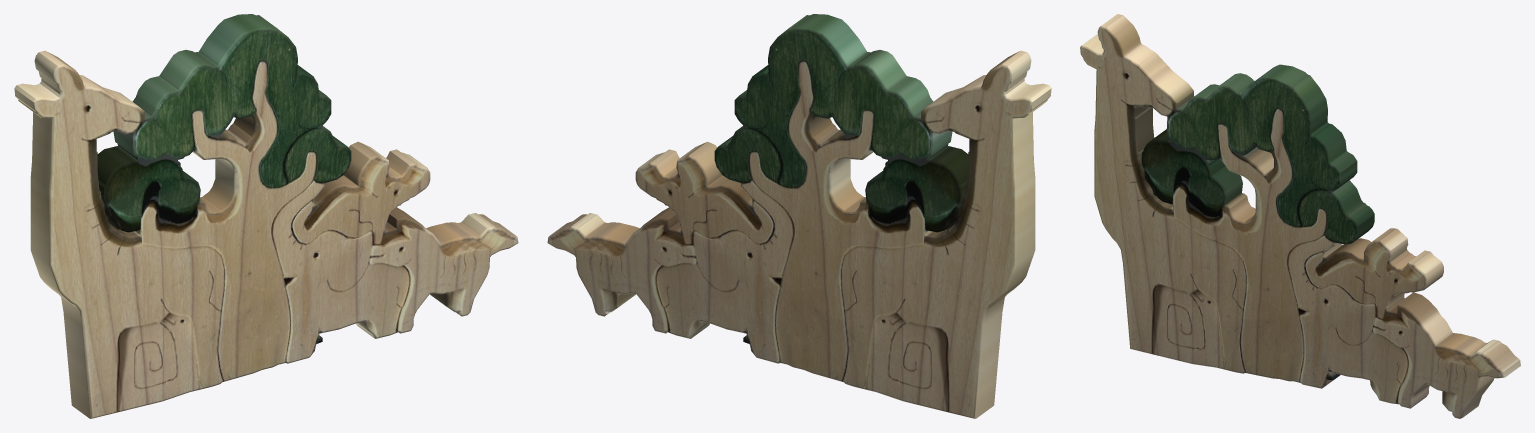
Rendered from standing-puzzles.glb.
3 views of the same model, side by side, from view 1: azimuth 30°, elevation 25°; view 2: azimuth 150°, elevation 25°; view 3: azimuth 330°, elevation 25° (orthographic). The views are drawn at different scales.
Visible parts, largest first — view 1: Giraffe scene puzzle; view 2: Giraffe scene puzzle; view 3: Giraffe scene puzzle.
Part boxes in pixels (x1,y1,x2,y2): Giraffe scene puzzle: (14,14,518,418); Giraffe scene puzzle: (547,14,1051,418); Giraffe scene puzzle: (1080,14,1520,418).
Size of the model in its own units: 0.2976 by 0.2116 by 0.0214.
Materials: 1 (1 with a texture image).
